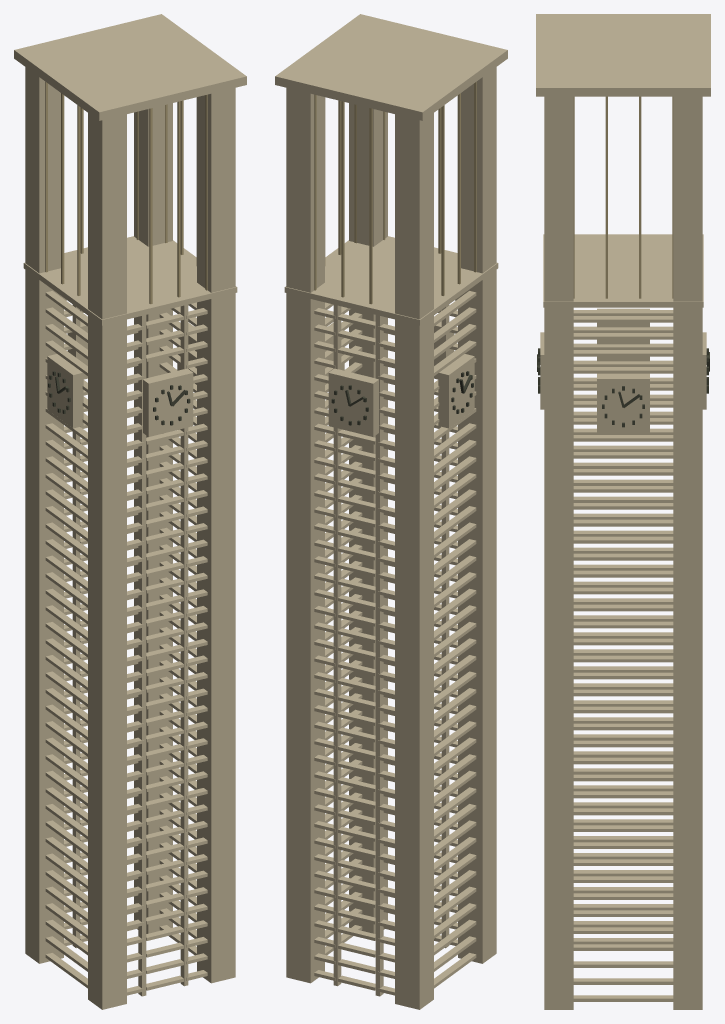
The model's file is ucr-bell-tower-near.glb.
The picture shows the model from 3 angles, left to right: view 1: azimuth 30°, elevation 25°; view 2: azimuth 150°, elevation 25°; view 3: azimuth 270°, elevation 25°; orthographic projection. The views are drawn at different scales.
Visible parts, largest first — view 1: ucr-bell-tower-0-stone, ucr-bell-tower-0-metal, ucr-bell-tower-0-dark; view 2: ucr-bell-tower-0-stone, ucr-bell-tower-0-metal, ucr-bell-tower-0-dark; view 3: ucr-bell-tower-0-stone, ucr-bell-tower-0-metal, ucr-bell-tower-0-dark.
Boxes of the visible parts, x1,y1,x2,y2 form: ucr-bell-tower-0-stone: (14, 14, 246, 1009); ucr-bell-tower-0-metal: (45, 82, 207, 304); ucr-bell-tower-0-dark: (48, 371, 190, 425); ucr-bell-tower-0-stone: (275, 14, 507, 1009); ucr-bell-tower-0-metal: (314, 82, 476, 304); ucr-bell-tower-0-dark: (331, 371, 473, 425); ucr-bell-tower-0-stone: (536, 14, 710, 1009); ucr-bell-tower-0-metal: (573, 96, 673, 298); ucr-bell-tower-0-dark: (537, 348, 709, 427).
Bounding box in the file's own units: 8.4 × 49.07 × 8.4.
